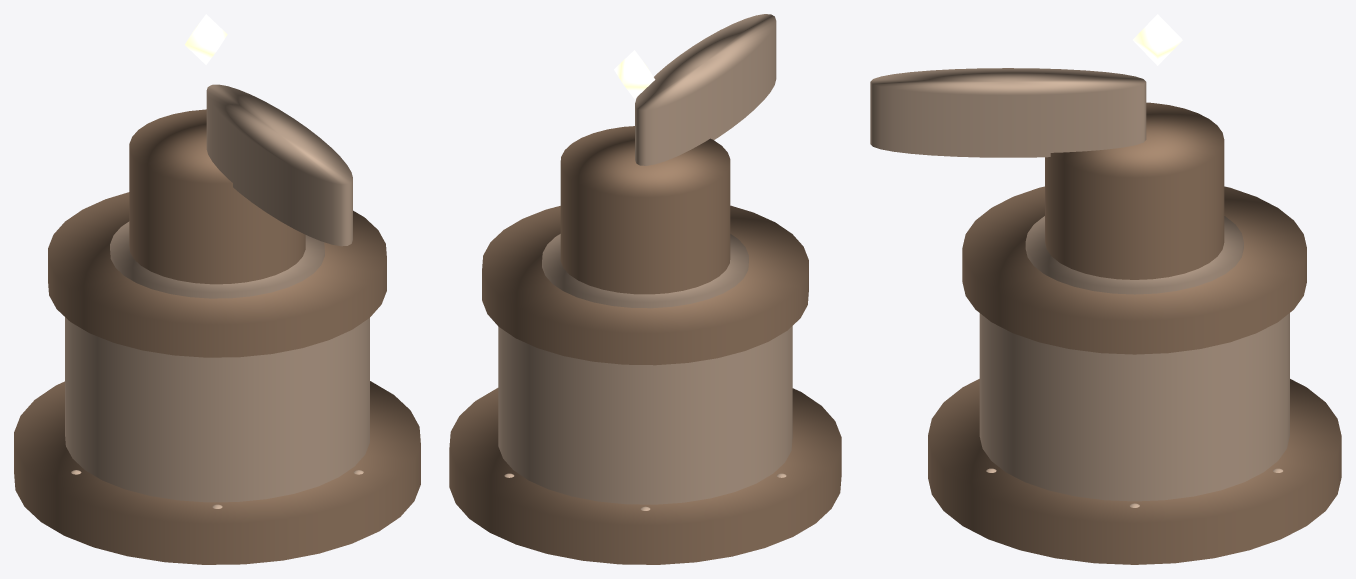
The model's file is cannon_l3.glb.
3 renders of one model, left to right at view 1: azimuth 30°, elevation 25°; view 2: azimuth 150°, elevation 25°; view 3: azimuth 270°, elevation 25°, orthographic. The views are drawn at different scales.
Parts seen in each view (by area): view 1: base, footing, baseCollar, shaft, barrel, lowerTrim, spinCrystal; view 2: base, footing, baseCollar, shaft, barrel, lowerTrim, spinCrystal; view 3: base, footing, baseCollar, shaft, barrel, lowerTrim, spinCrystal.
Boxes of the visible parts, <box> form: base: <box>65,317,369,502</box>; footing: <box>14,381,420,564</box>; baseCollar: <box>48,192,386,357</box>; shaft: <box>129,109,305,284</box>; barrel: <box>206,84,352,246</box>; lowerTrim: <box>110,221,324,298</box>; spinCrystal: <box>185,14,227,64</box>; base: <box>498,326,792,504</box>; footing: <box>449,388,841,564</box>; baseCollar: <box>482,205,808,365</box>; shaft: <box>560,126,730,294</box>; barrel: <box>635,14,776,165</box>; lowerTrim: <box>542,234,748,308</box>; spinCrystal: <box>614,50,655,98</box>; base: <box>979,313,1289,501</box>; footing: <box>928,379,1341,564</box>; baseCollar: <box>962,186,1306,354</box>; shaft: <box>1045,102,1224,279</box>; barrel: <box>870,68,1146,157</box>; lowerTrim: <box>1025,216,1243,294</box>; spinCrystal: <box>1133,14,1182,65</box>.
Size of the model in its own units: 1.8 by 2.23 by 2.05.
